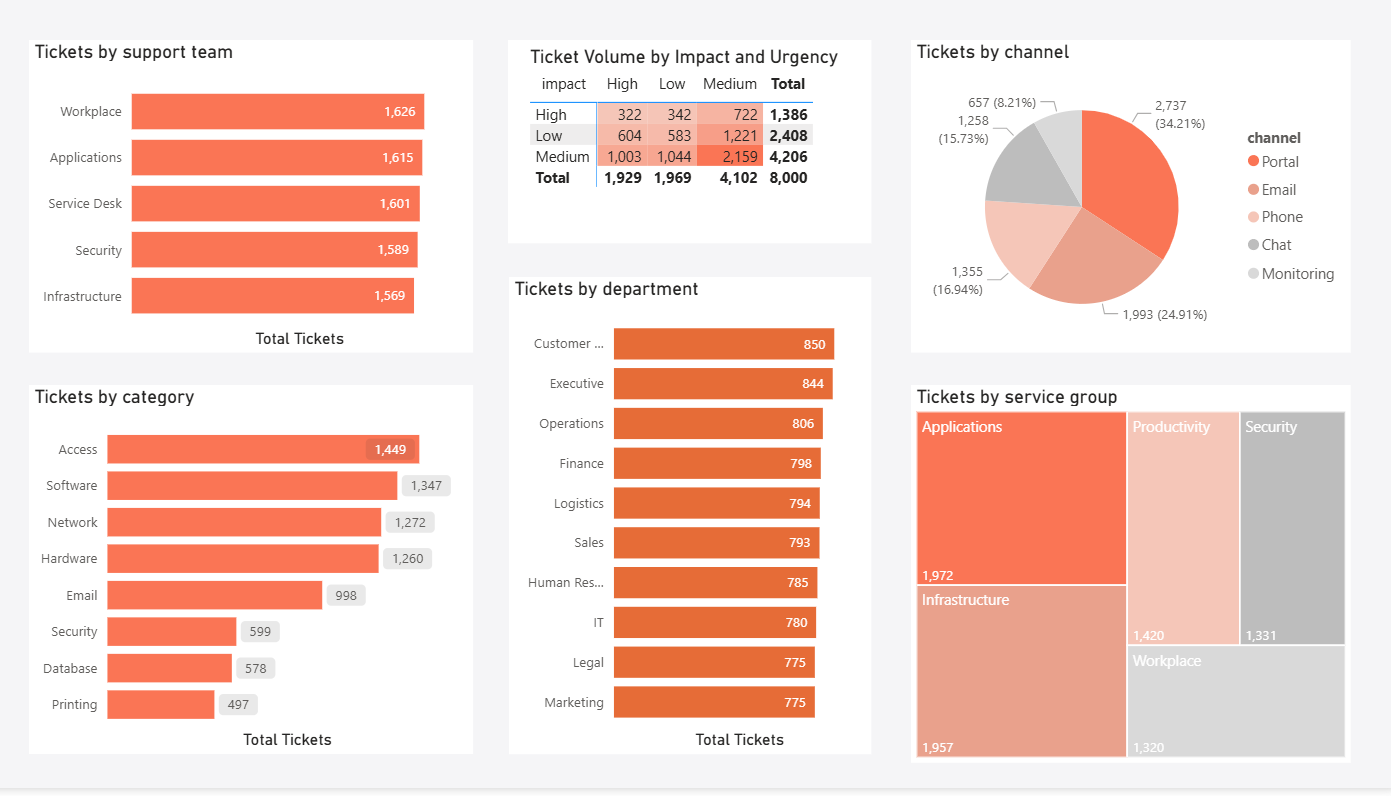

This screenshot's page, from the dashboard's own definition file:
{"tool":"powerbi","page":{"name":"Ticket Drivers & Segments","canvas":[1280,720],"ordinal":2},"visuals":[{"type":"clusteredBarChart","title":"Tickets by support team","fields":{"Category":["technicians.support_team"],"Y":["Measures-1.Total Tickets"]},"box":[41.6,42.5,401.9,283.3],"z":0},{"type":"clusteredBarChart","title":" Tickets by department","fields":{"Category":["departments.department_name"],"Y":["Measures-1.Total Tickets"]},"box":[476.2,257.1,327.7,431.8],"z":1000},{"type":"clusteredBarChart","title":"Tickets by category","fields":{"Category":["tickets.category"],"Y":["Measures-1.Total Tickets"]},"box":[41.6,354.9,401.9,334],"z":2000},{"type":"pieChart","title":" Tickets by channel","fields":{"Category":["tickets.channel"],"Y":["Measures-1.Total Tickets"]},"box":[840.1,42.5,398.3,283.3],"z":3000},{"type":"treemap","title":"Tickets by service group","fields":{"Group":["services.service_group"],"Values":["Measures-1.Total Tickets"]},"box":[840.1,354.9,398.3,342.2],"z":4000},{"type":"pivotTable","title":"Ticket Volume by Impact and Urgency","fields":{"Rows":["tickets.impact"],"Columns":["tickets.urgency"],"Values":["Measures-1.Total Tickets"]},"box":[475.2,42.5,328.6,183.8],"z":5000}]}

Visuals, with their boxes in screenshot pixels (x1, y1, x2, y2), scaled from the page's 1280x720 canvas onto the 1391x796 screenshot:
"Tickets by support team" clusteredBarChart: Rect(45, 47, 482, 360)
" Tickets by department" clusteredBarChart: Rect(517, 284, 874, 762)
"Tickets by category" clusteredBarChart: Rect(45, 392, 482, 762)
" Tickets by channel" pieChart: Rect(913, 47, 1346, 360)
"Tickets by service group" treemap: Rect(913, 392, 1346, 771)
"Ticket Volume by Impact and Urgency" pivotTable: Rect(516, 47, 874, 250)
